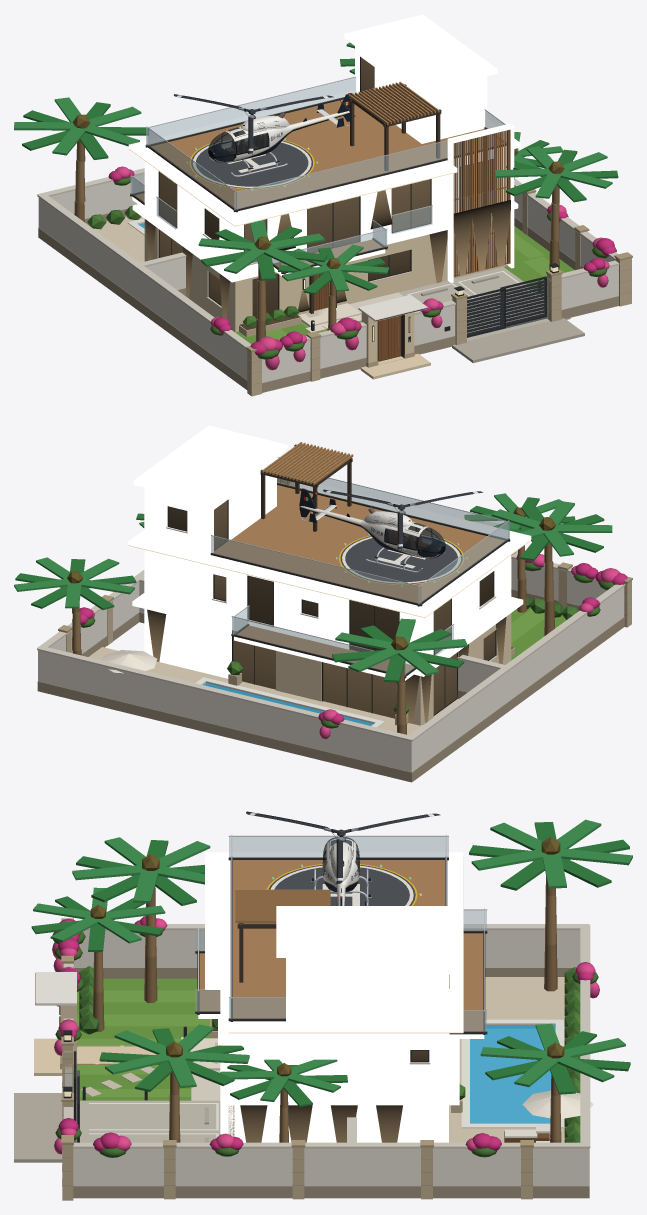
Rendered from villa.glb.
3 renders of one model, top to bottom at view 1: azimuth 30°, elevation 25°; view 2: azimuth 150°, elevation 25°; view 3: azimuth 270°, elevation 25°, orthographic. The views are drawn at different scales.
Visible parts, largest first — view 1: villa:plain, villa-facade:render, villa-facade:trim, villa:leaves, villa-facade:lights, villa-facade:glass, villa-facade:stone, villa-gate, villa:pave, villa:trunks, helicopter-paint, villa-entrance (+3 smaller); view 2: villa:plain, villa-facade:render, villa-facade:trim, villa:leaves, villa-facade:lights, villa-facade:glass, villa-facade:stone, helicopter-paint, villa:trunks, helicopter-satin, helicopter-glass, villa:water; view 3: villa:plain, villa-facade:render, villa:leaves, villa-facade:trim, villa-facade:glass, villa:pave, villa:water, villa:trunks, villa-facade:lights, villa-entrance, helicopter-paint, helicopter-satin (+1 smaller).
Boxes of the visible parts, x1=… form: villa:plain: x1=37, y1=168, x2=632, y2=396; villa-facade:render: x1=128, y1=14, x2=520, y2=282; villa-facade:trim: x1=130, y1=56, x2=510, y2=315; villa:leaves: x1=14, y1=42, x2=618, y2=370; villa-facade:lights: x1=129, y1=57, x2=510, y2=318; villa-facade:glass: x1=130, y1=77, x2=506, y2=267; villa-facade:stone: x1=144, y1=215, x2=507, y2=332; villa-gate: x1=467, y1=276, x2=546, y2=337; villa:pave: x1=302, y1=267, x2=570, y2=341; villa:trunks: x1=74, y1=140, x2=559, y2=341; helicopter-paint: x1=208, y1=93, x2=351, y2=162; villa-entrance: x1=360, y1=312, x2=430, y2=379; villa:plain: x1=37, y1=521, x2=632, y2=782; villa-facade:render: x1=128, y1=425, x2=531, y2=680; villa-facade:trim: x1=166, y1=442, x2=510, y2=715; villa:leaves: x1=14, y1=457, x2=627, y2=738; villa-facade:lights: x1=128, y1=500, x2=530, y2=723; villa-facade:glass: x1=211, y1=478, x2=509, y2=675; villa-facade:stone: x1=275, y1=613, x2=511, y2=725; helicopter-paint: x1=299, y1=488, x2=445, y2=558; villa:trunks: x1=72, y1=529, x2=554, y2=734; helicopter-satin: x1=311, y1=489, x2=482, y2=564; helicopter-glass: x1=385, y1=523, x2=445, y2=557; villa:water: x1=203, y1=682, x2=373, y2=725; villa:plain: x1=14, y1=918, x2=593, y2=1200; villa-facade:render: x1=198, y1=852, x2=484, y2=1142; villa:leaves: x1=31, y1=819, x2=632, y2=1157; villa-facade:trim: x1=195, y1=834, x2=487, y2=1064; villa-facade:glass: x1=195, y1=836, x2=486, y2=1031; villa:pave: x1=76, y1=1070, x2=220, y2=1142; villa:water: x1=470, y1=1025, x2=555, y2=1123; villa:trunks: x1=92, y1=876, x2=561, y2=1142; villa-facade:lights: x1=205, y1=857, x2=463, y2=1142; villa-entrance: x1=34, y1=1005, x2=156, y2=1075; helicopter-paint: x1=322, y1=838, x2=366, y2=905; helicopter-satin: x1=246, y1=811, x2=440, y2=905.
Size of the model in its own units: 25.62 by 10.3 by 25.99.
